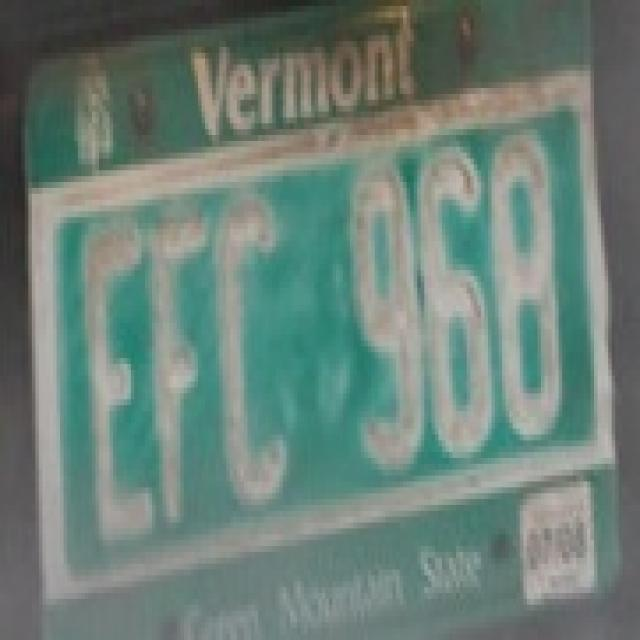licenseplate: (23, 0, 624, 637)
